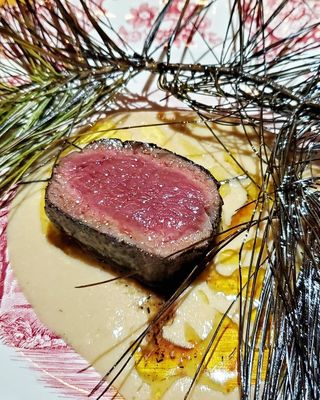soup: (41, 137, 229, 284)
